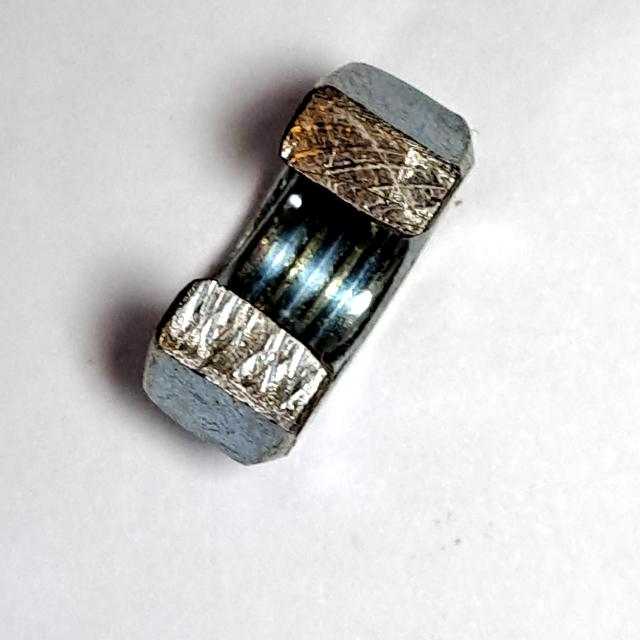Side-Fracture: (128, 53, 482, 477)
